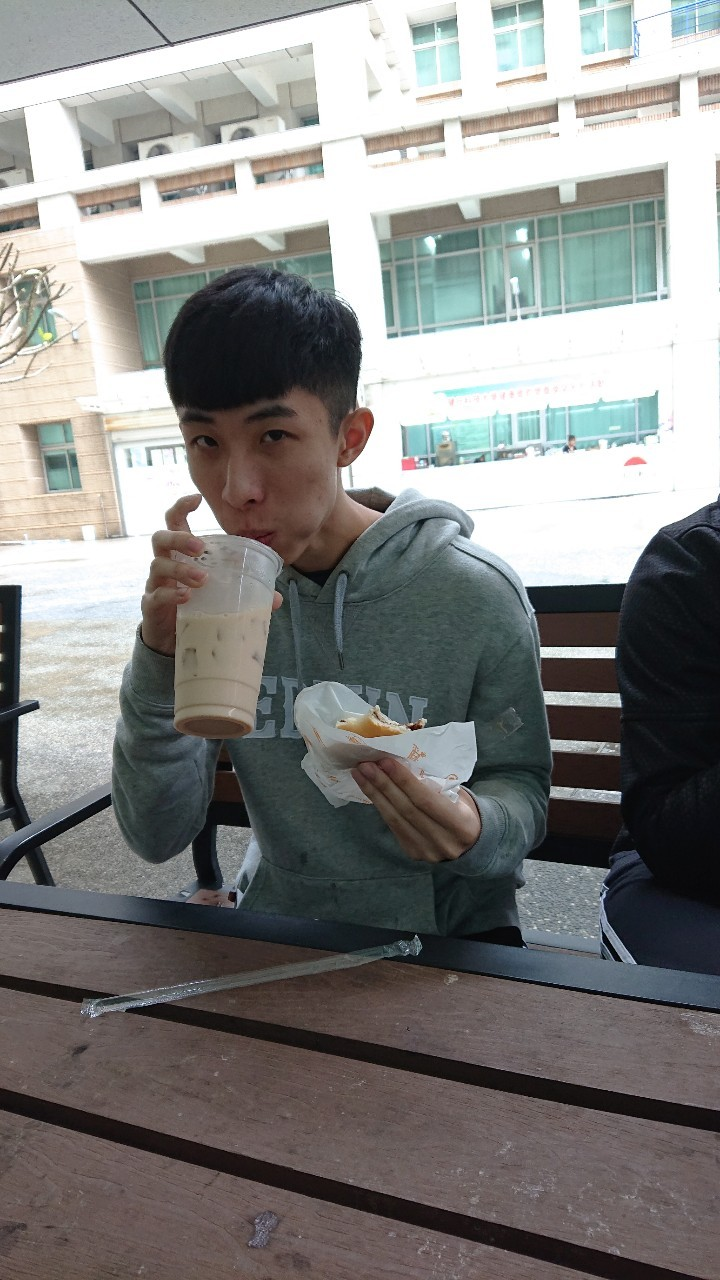people: (89, 237, 491, 923)
